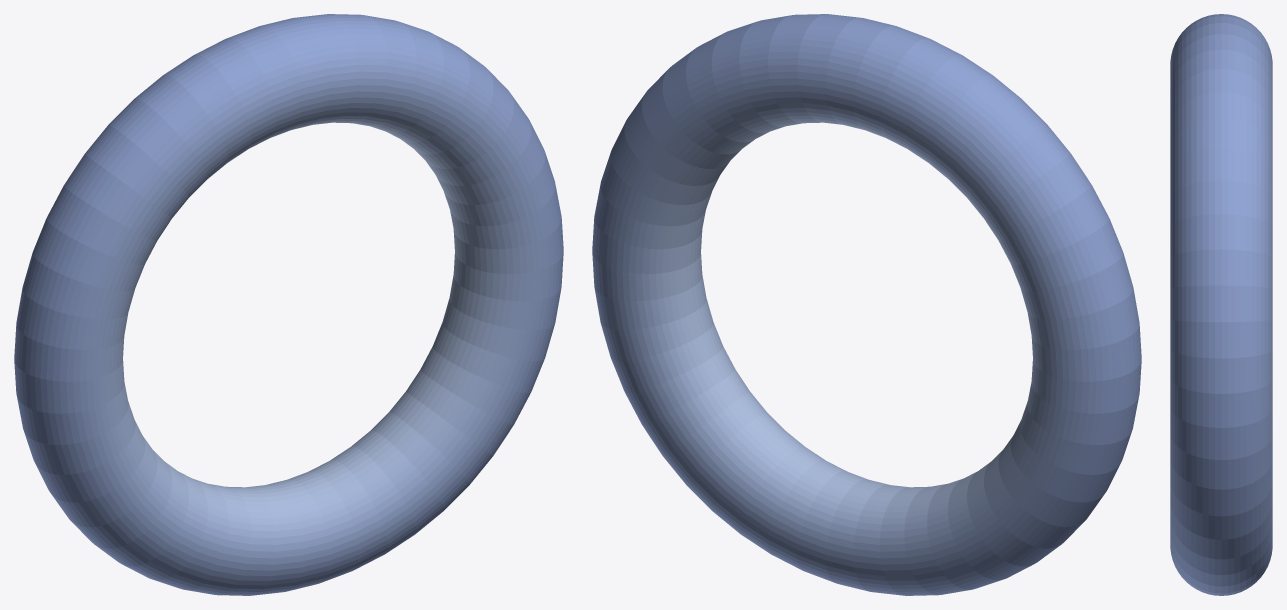
The picture shows the model from 3 angles, left to right: view 1: azimuth 30°, elevation 25°; view 2: azimuth 150°, elevation 25°; view 3: azimuth 270°, elevation 25°; orthographic projection. The views are drawn at different scales.
Parts seen in each view (by area): view 1: world; view 2: world; view 3: world.
Part boxes in pixels (x1,y1,x2,y2): world: (14, 14, 563, 595); world: (592, 14, 1141, 595); world: (1170, 14, 1272, 595).
Bounding box in the file's own units: 23.47 × 23.42 × 4.13.
